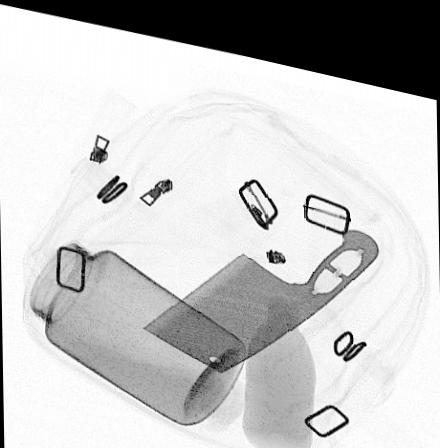Knife: (139, 210, 381, 364)
